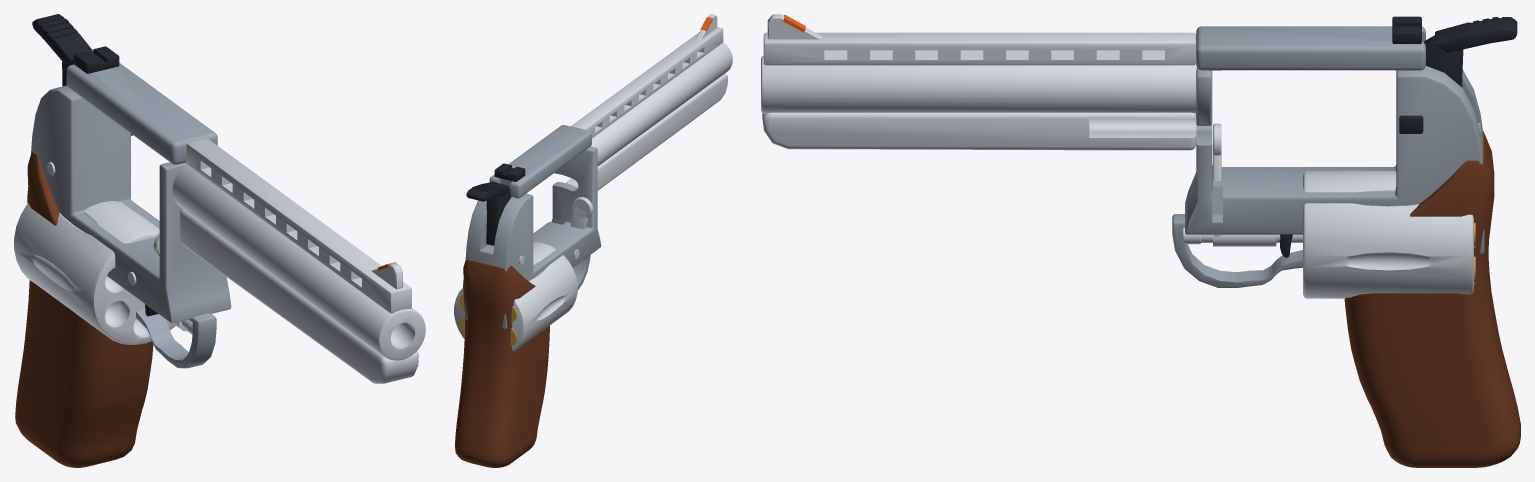
The model's file is magnum.glb.
3 renders of one model, left to right at view 1: azimuth 30°, elevation 25°; view 2: azimuth 150°, elevation 25°; view 3: azimuth 270°, elevation 25°, orthographic. The views are drawn at different scales.
Parts seen in each view (by area): view 1: Frame, gun-drum; view 2: Frame, gun-drum, gun-crane-arm; view 3: Frame, gun-drum, gun-crane-arm.
Part boxes in pixels (x1,y1,x2,y2): Frame: (15,14,425,467); gun-drum: (14,201,192,344); Frame: (455,14,732,467); gun-drum: (454,242,577,351); gun-crane-arm: (570,197,593,229); Frame: (761,14,1520,467); gun-drum: (1183,170,1475,298); gun-crane-arm: (1213,123,1276,246).
Bounding box in the file's own units: 0.0477 × 0.1814 × 0.2846.
